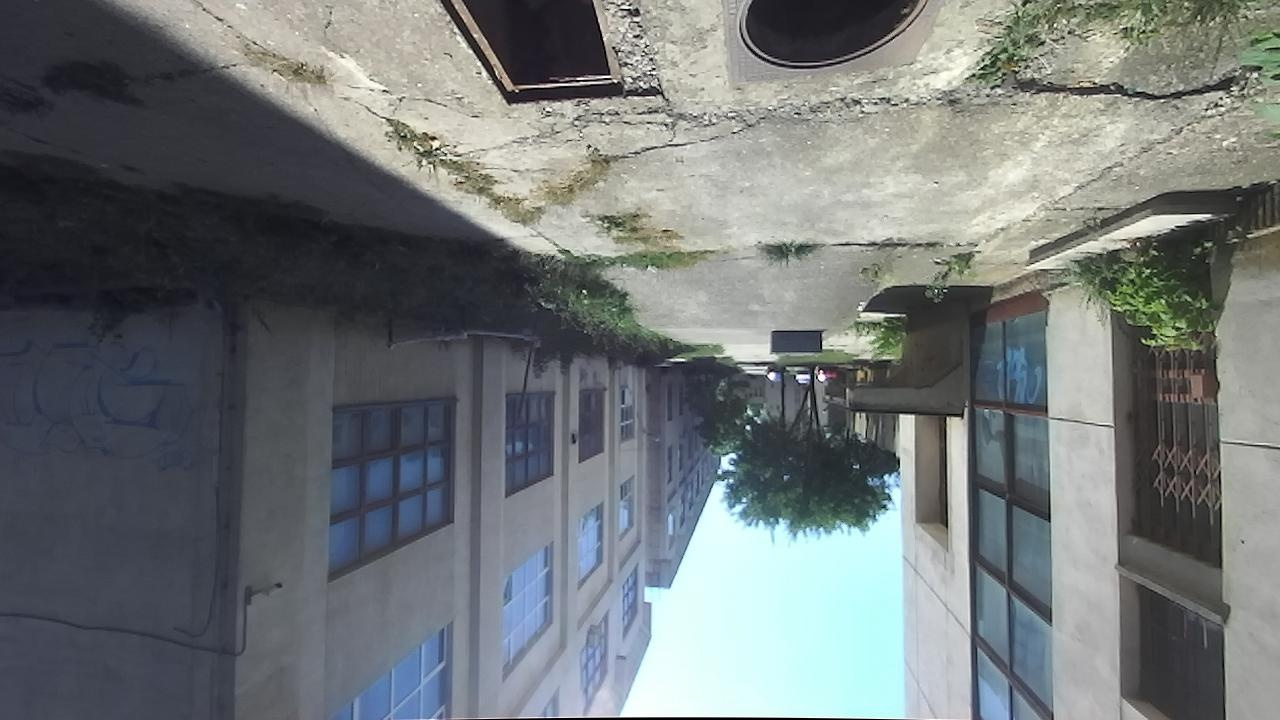drain: (435, 0, 628, 110), (730, 0, 932, 74)
